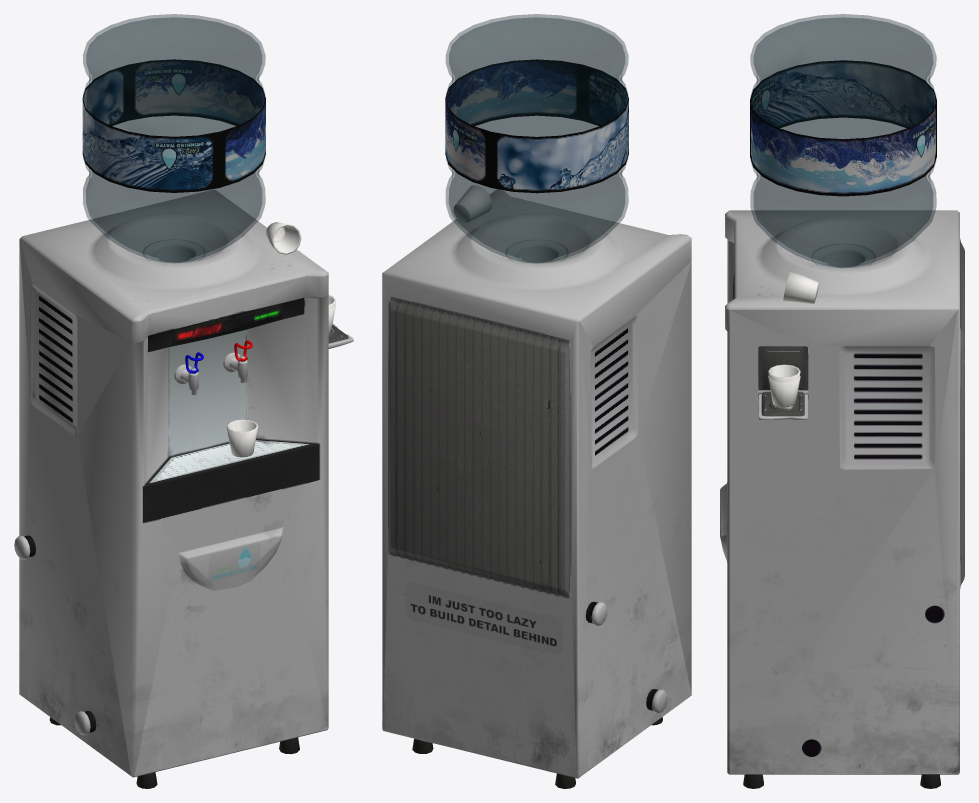
The model's file is water.glb.
3 views of the same model, side by side, from view 1: azimuth 30°, elevation 25°; view 2: azimuth 150°, elevation 25°; view 3: azimuth 270°, elevation 25° (orthographic).
Visible parts, largest first — view 1: water_m2, water_m1, water_m0; view 2: water_m2, water_m1, water_m0; view 3: water_m2, water_m1, water_m0.
Boxes of the visible parts, left/top/right/bottom form: water_m2: left=14, top=189, right=353, bottom=788; water_m1: left=83, top=14, right=265, bottom=262; water_m0: left=82, top=59, right=265, bottom=192; water_m2: left=382, top=185, right=691, bottom=788; water_m1: left=446, top=14, right=628, bottom=262; water_m0: left=445, top=59, right=628, bottom=193; water_m2: left=720, top=210, right=964, bottom=788; water_m1: left=750, top=14, right=936, bottom=267; water_m0: left=750, top=60, right=936, bottom=196.
Bounding box in the file's own units: 0.4386 × 1.15 × 0.366.
Materials: 3 (3 with a texture image).
